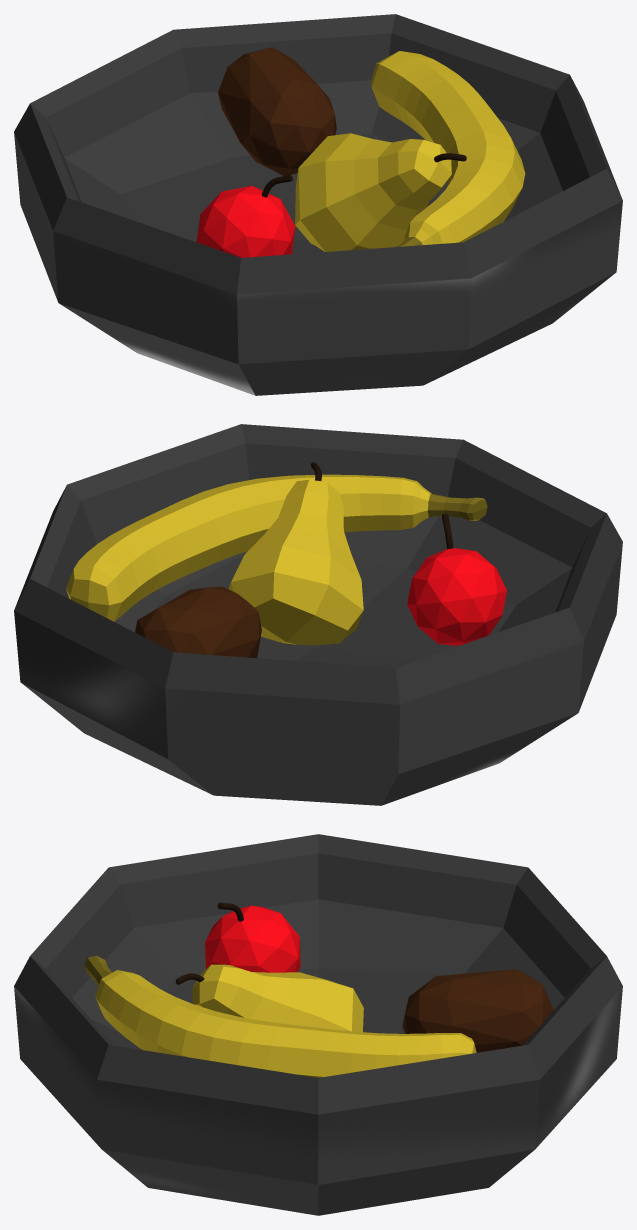
File: Fruits.fbx
3 views of the same model, one above another, from view 1: azimuth 30°, elevation 25°; view 2: azimuth 150°, elevation 25°; view 3: azimuth 270°, elevation 25° (orthographic).
Parts seen in each view (by area): view 1: Cube.002, Cube.001, Cube, Icosphere.001, Cylinder; view 2: Cube.002, Cube.001, Cube, Cylinder, Icosphere.001; view 3: Cube.002, Cube.001, Icosphere.001, Cube, Cylinder.
Part boxes in pixels (box(x1,y1,x2,y2)): Cube.002: box(14, 14, 622, 395); Cube.001: box(371, 51, 525, 246); Cube: box(295, 133, 466, 251); Icosphere.001: box(218, 47, 336, 175); Cylinder: box(196, 175, 295, 257); Cube.002: box(14, 424, 622, 805); Cube.001: box(66, 474, 487, 621); Cube: box(228, 462, 363, 645); Cylinder: box(407, 513, 506, 645); Icosphere.001: box(135, 586, 261, 657); Cube.002: box(14, 834, 622, 1215); Cube.001: box(84, 955, 476, 1077); Icosphere.001: box(402, 969, 553, 1052); Cube: box(175, 964, 363, 1032); Cylinder: box(205, 902, 300, 972).
Size of the model in its own units: 1214 by 472 by 1214.
